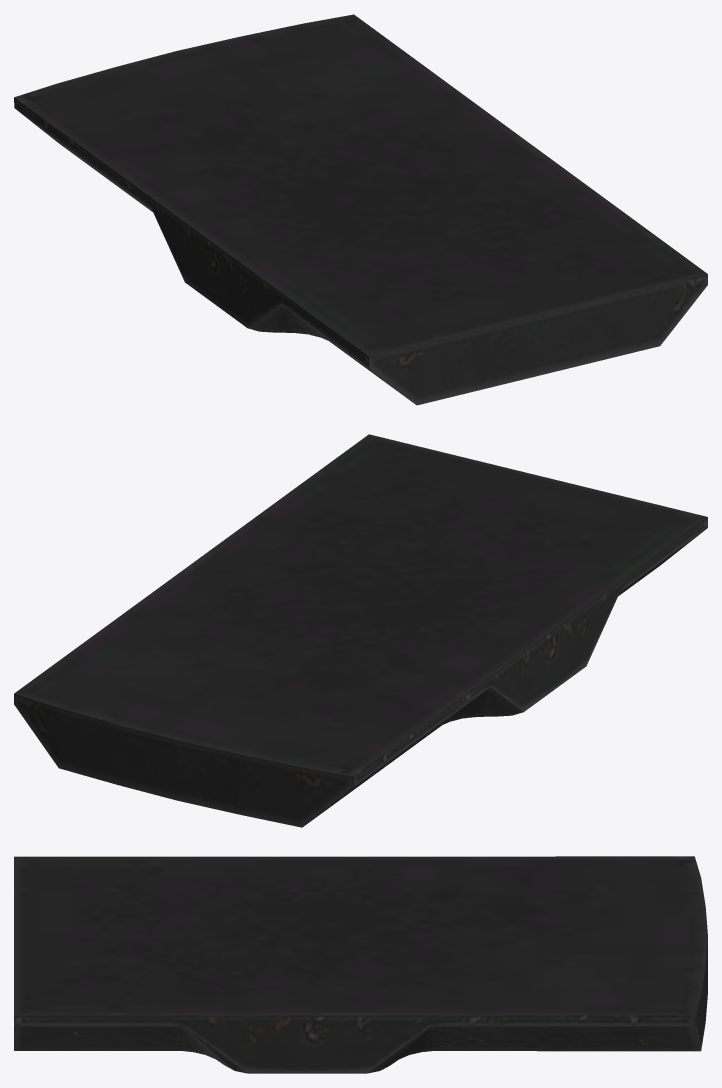
3 renders of one model, top to bottom at view 1: azimuth 30°, elevation 25°; view 2: azimuth 150°, elevation 25°; view 3: azimuth 270°, elevation 25°, orthographic. The views are drawn at different scales.
Visible parts, largest first — view 1: TW_5a71e1868dc32e00094b97f3_PZ_Import; view 2: TW_5a71e1868dc32e00094b97f3_PZ_Import; view 3: TW_5a71e1868dc32e00094b97f3_PZ_Import.
Part boxes in pixels (box(x1,y1,x2,y2)): TW_5a71e1868dc32e00094b97f3_PZ_Import: box(14, 14, 707, 405); TW_5a71e1868dc32e00094b97f3_PZ_Import: box(14, 434, 707, 827); TW_5a71e1868dc32e00094b97f3_PZ_Import: box(14, 856, 707, 1073).
Size of the model in its own units: 0.0144 by 0.0265 by 0.00245.
Materials: 1 (1 with a texture image).
